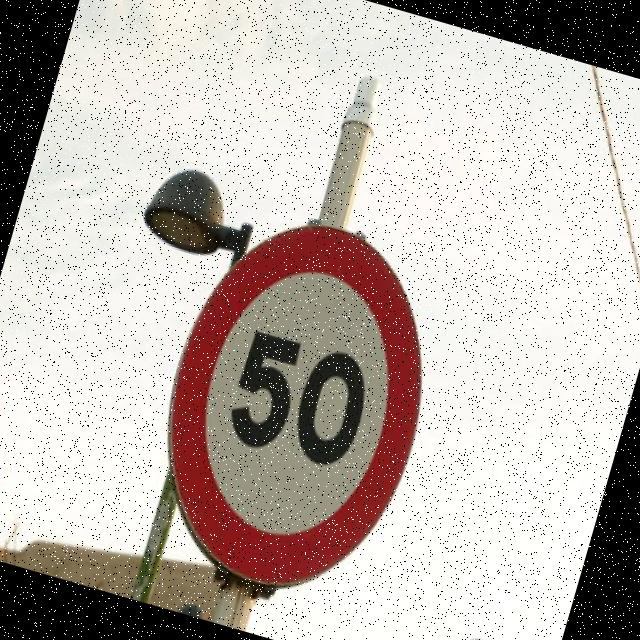speed_limit_50: (121, 184, 474, 625)
